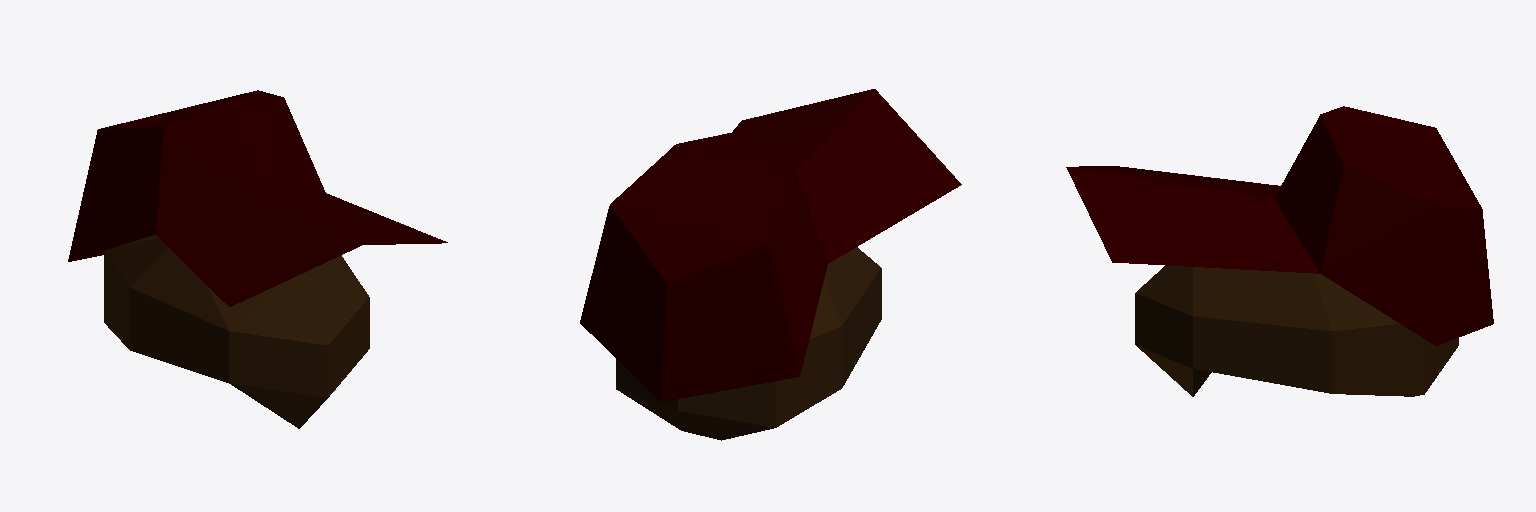
The model's file is AntGuyHead.obj.
3 renders of one model, left to right at view 1: azimuth 30°, elevation 25°; view 2: azimuth 150°, elevation 25°; view 3: azimuth 270°, elevation 25°, orthographic.
Visible parts, largest first — view 1: body; view 2: body; view 3: body.
Part boxes in pixels (x1,y1,x2,y2): body: (68,90,447,428); body: (580,89,961,440); body: (1066,106,1493,396).
Bounding box in the file's own units: 0.2824 × 0.3466 × 0.475.